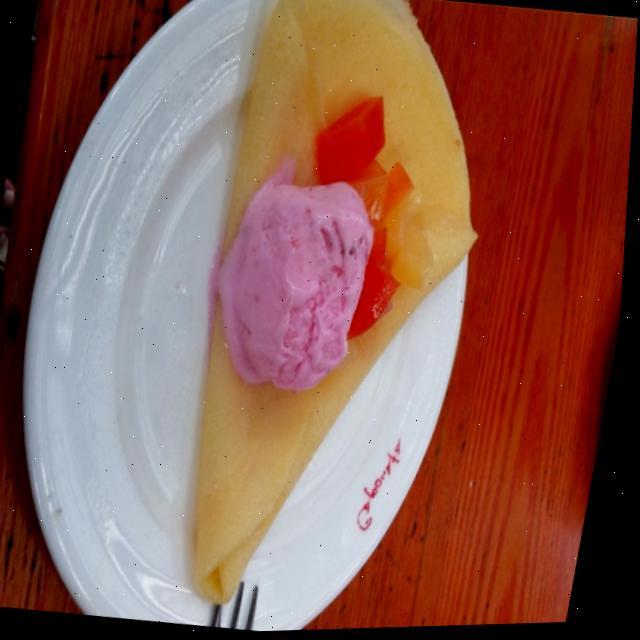刺身生食: (0, 104, 543, 640)
